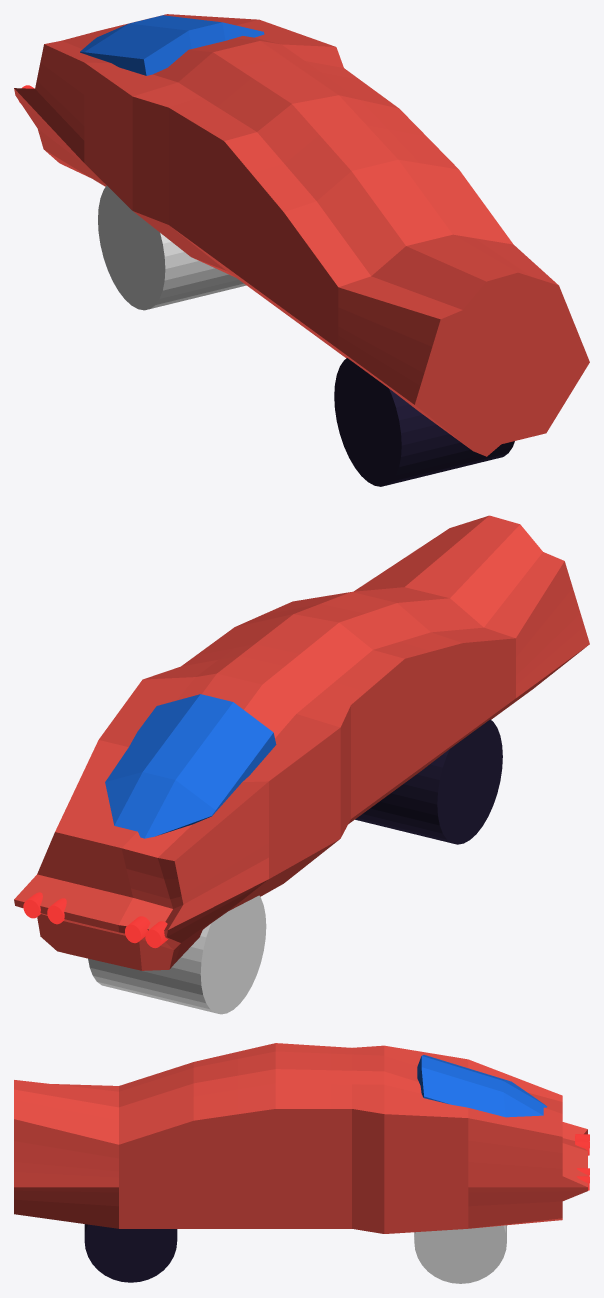
Rendered from auto2.glb.
3 renders of one model, top to bottom at view 1: azimuth 30°, elevation 25°; view 2: azimuth 150°, elevation 25°; view 3: azimuth 270°, elevation 25°, orthographic. The views are drawn at different scales.
Visible parts, largest first — view 1: Cube, Cylinder, Cylinder.001, Cube.001; view 2: Cube, Cube.001, Cylinder.001, Cylinder; view 3: Cube, Cube.001, Cylinder.001, Cylinder.
Part boxes in pixels (x1=…): Cube: x1=14, y1=14, x2=589, y2=456; Cylinder: x1=334, y1=358, x2=514, y2=486; Cylinder.001: x1=98, y1=185, x2=246, y2=310; Cube.001: x1=80, y1=15, x2=264, y2=75; Cube: x1=14, y1=515, x2=589, y2=970; Cube.001: x1=105, y1=694, x2=276, y2=838; Cylinder.001: x1=88, y1=895, x2=266, y2=1014; Cylinder: x1=355, y1=719, x2=502, y2=844; Cube: x1=14, y1=1043, x2=587, y2=1233; Cube.001: x1=417, y1=1055, x2=547, y2=1117; Cylinder.001: x1=414, y1=1225, x2=506, y2=1283; Cylinder: x1=84, y1=1224, x2=177, y2=1282.
Size of the model in its own units: 3.49 by 4.81 by 12.42.
